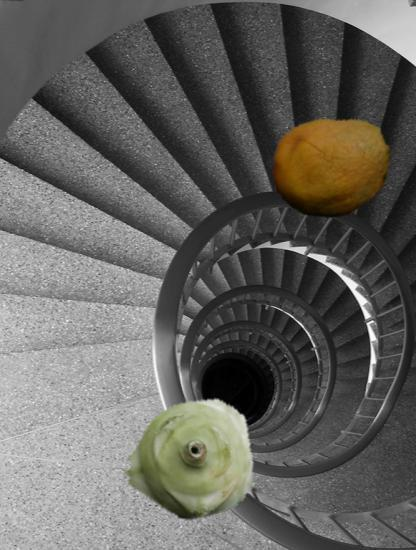Kohlrabi: (122, 390, 257, 525)
Papaya: (273, 107, 393, 227)
